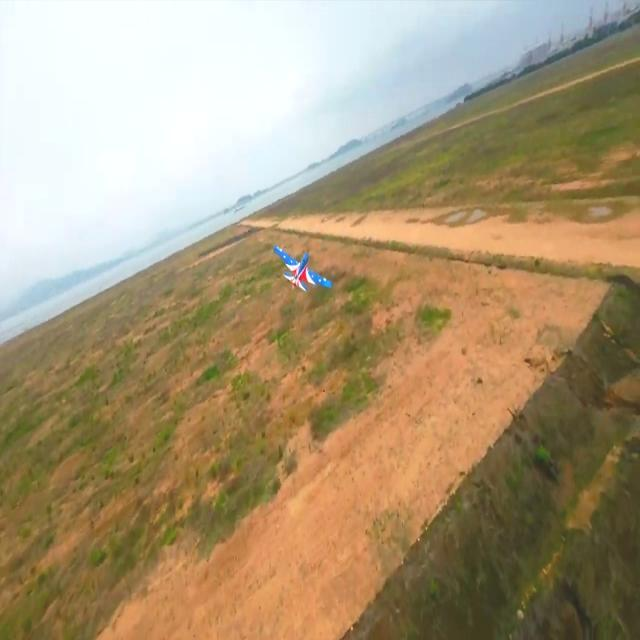iha: (299, 233, 303, 291)
